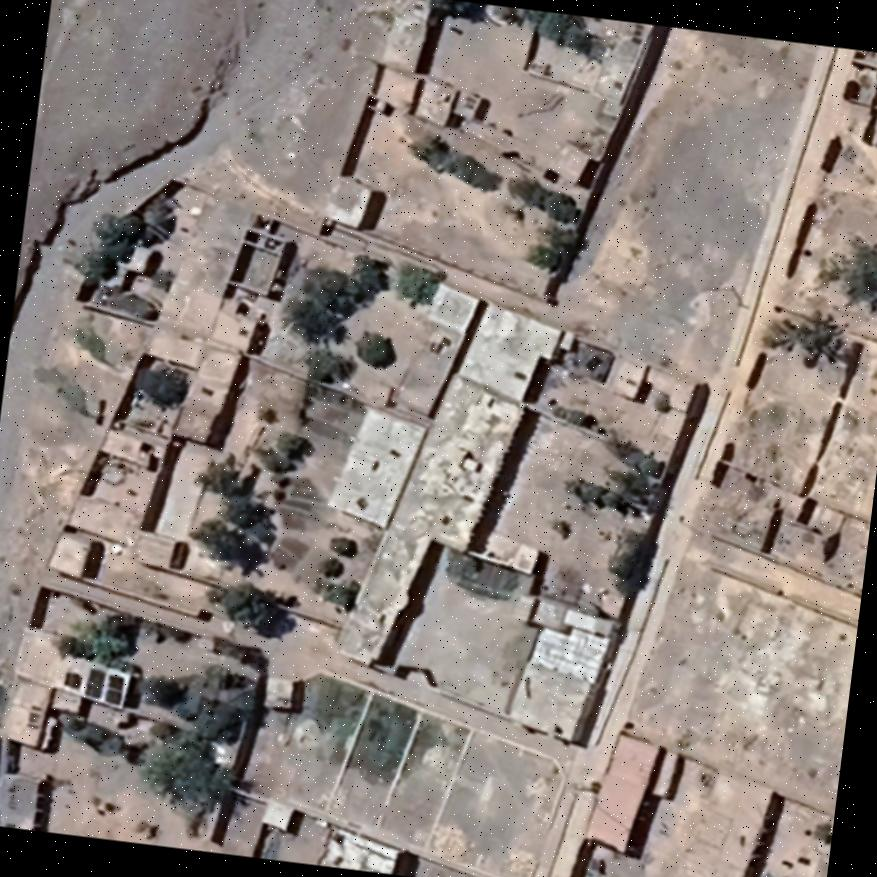Solarpanel: (60, 657, 133, 712)
